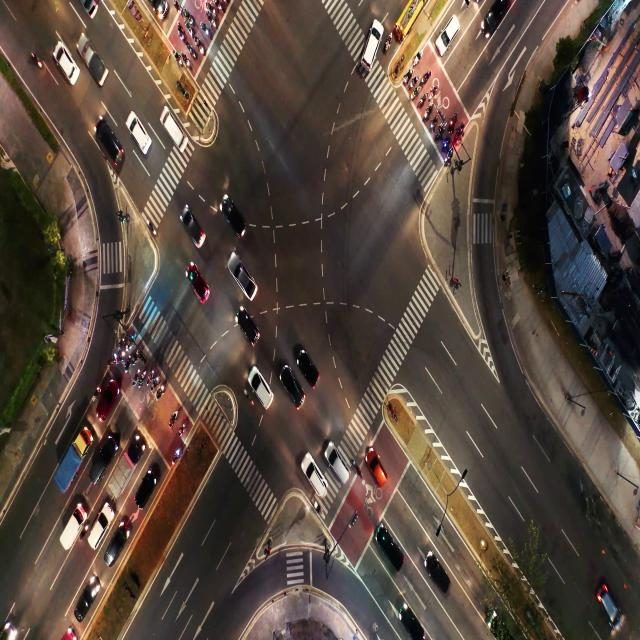bus: (405, 3, 418, 26)
car: (425, 555, 450, 595), (600, 586, 619, 626), (100, 119, 118, 160), (399, 604, 422, 636), (384, 534, 402, 574), (234, 261, 251, 293), (372, 458, 387, 492), (95, 448, 112, 478), (104, 390, 120, 420), (132, 116, 146, 150), (60, 55, 78, 81), (308, 467, 324, 496), (258, 380, 274, 406), (286, 380, 302, 406), (246, 311, 256, 352), (186, 212, 200, 241), (167, 121, 182, 146), (144, 471, 155, 505), (445, 17, 460, 41), (332, 457, 346, 482), (113, 527, 125, 556), (190, 266, 204, 290), (226, 208, 242, 228), (364, 34, 375, 63), (95, 511, 106, 539), (488, 13, 499, 39), (306, 362, 318, 384), (82, 591, 93, 613)
motorcycle: (32, 52, 45, 69), (243, 388, 254, 406), (171, 45, 181, 61), (386, 36, 394, 50), (425, 106, 434, 117), (140, 371, 148, 382), (356, 462, 362, 476), (174, 448, 180, 462), (204, 29, 211, 41), (208, 4, 215, 16), (218, 2, 225, 14), (189, 47, 195, 59), (188, 28, 194, 40), (314, 502, 321, 512), (175, 4, 182, 14), (447, 151, 453, 162), (155, 374, 161, 385), (95, 385, 101, 396), (180, 421, 185, 434), (160, 383, 165, 396), (458, 125, 464, 135), (431, 118, 437, 128), (172, 411, 178, 421), (127, 355, 133, 365), (198, 44, 204, 54), (424, 72, 429, 83), (188, 14, 193, 25), (444, 138, 450, 147), (407, 70, 413, 79), (431, 88, 436, 98), (413, 90, 419, 98), (414, 76, 419, 85), (416, 53, 421, 62), (440, 125, 444, 136), (150, 371, 154, 382), (420, 98, 426, 105), (451, 118, 455, 128), (135, 350, 139, 360), (127, 340, 131, 350), (112, 351, 116, 361), (210, 19, 215, 26), (136, 369, 139, 379), (185, 60, 190, 66), (120, 336, 124, 343), (180, 32, 183, 41), (121, 351, 125, 357)
truck: (85, 44, 103, 82), (118, 458, 133, 487), (64, 446, 78, 476), (64, 513, 78, 542)
